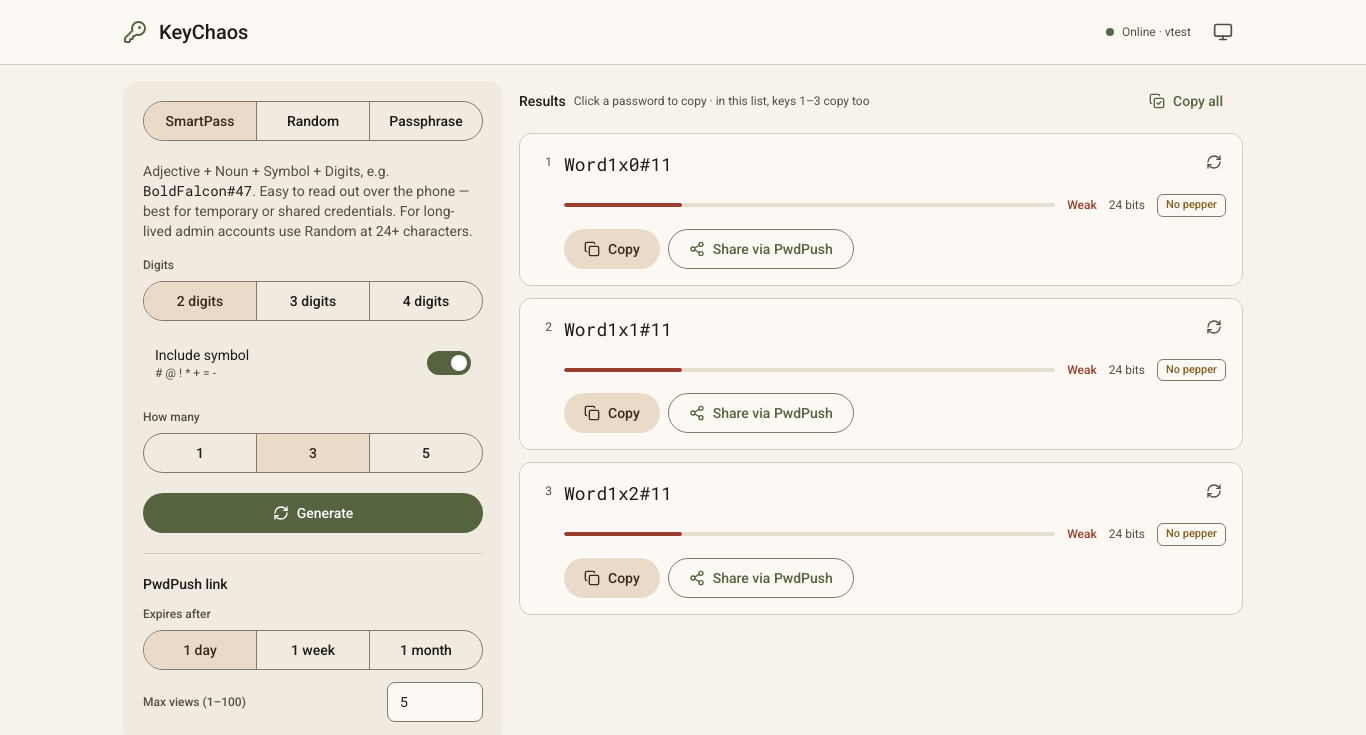
Test: App — PwdPush links are never lost or mismatched › regenerating a shared card clears its link
The width and height of the screenshot is (1366, 735).
Expected: the number of list items is 3, top-left (519, 133), bottom-right (1243, 286); top-left (519, 298), bottom-right (1243, 450); top-left (519, 462), bottom-right (1243, 614)
Click the radio button labelled "Random": click(312, 121) top-left (256, 102), bottom-right (369, 140)
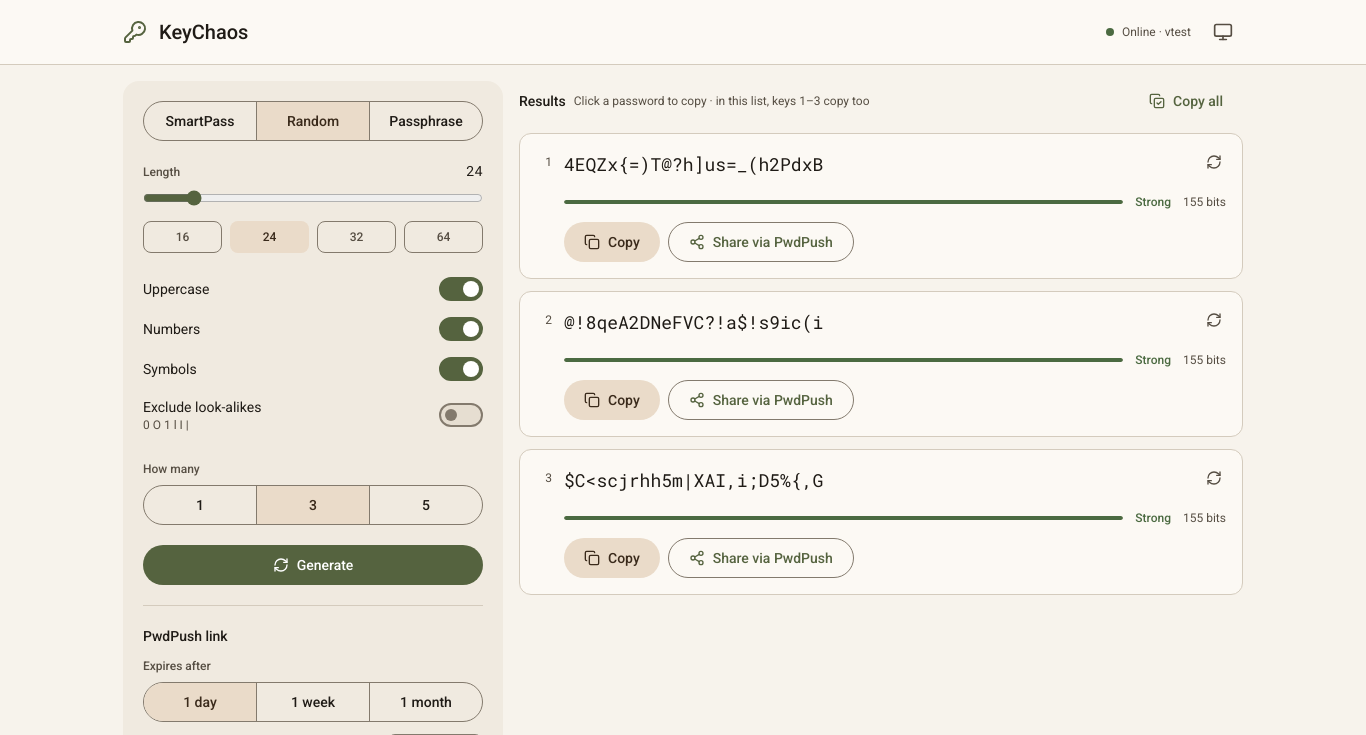
Click the button with aria-label "Share via PwdPush, password 1": click(761, 242) top-left (668, 222), bottom-right (854, 262)
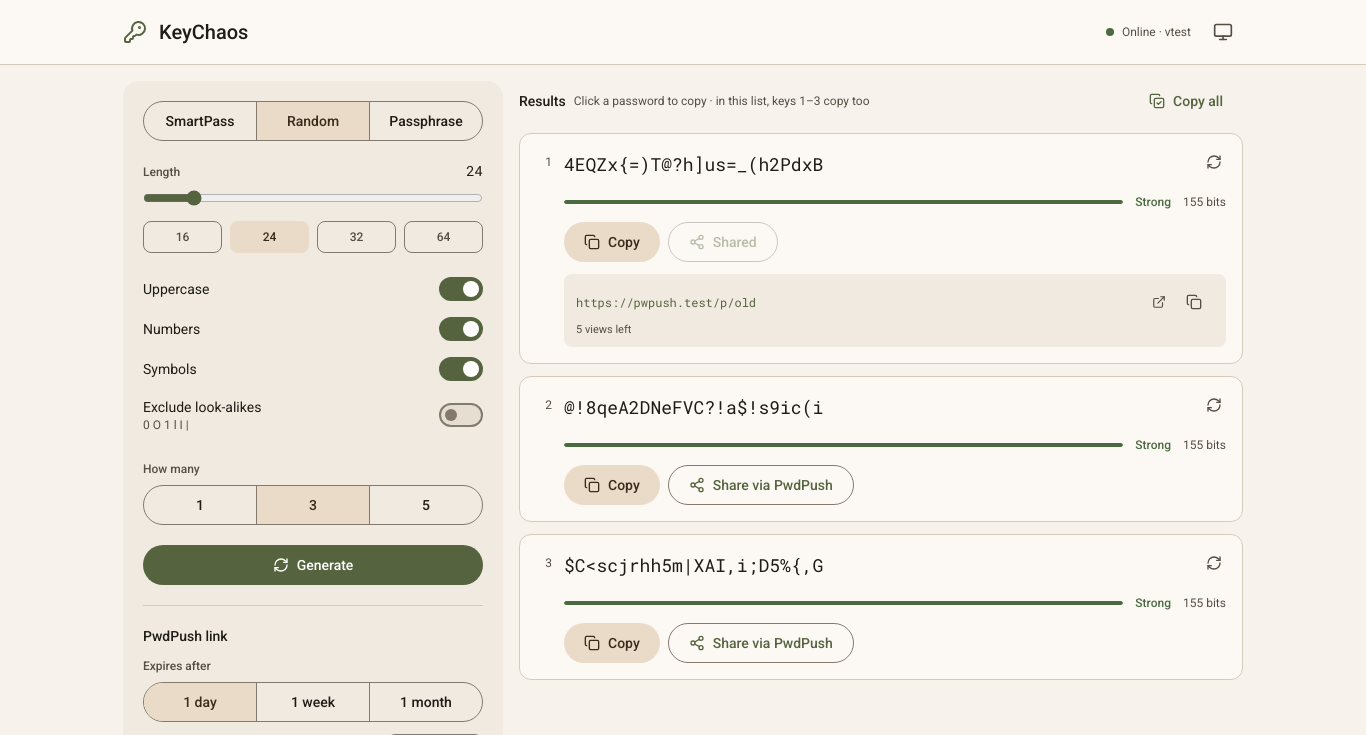
Click the button named "Regenerate password 1": click(1214, 162) top-left (1194, 142), bottom-right (1234, 182)
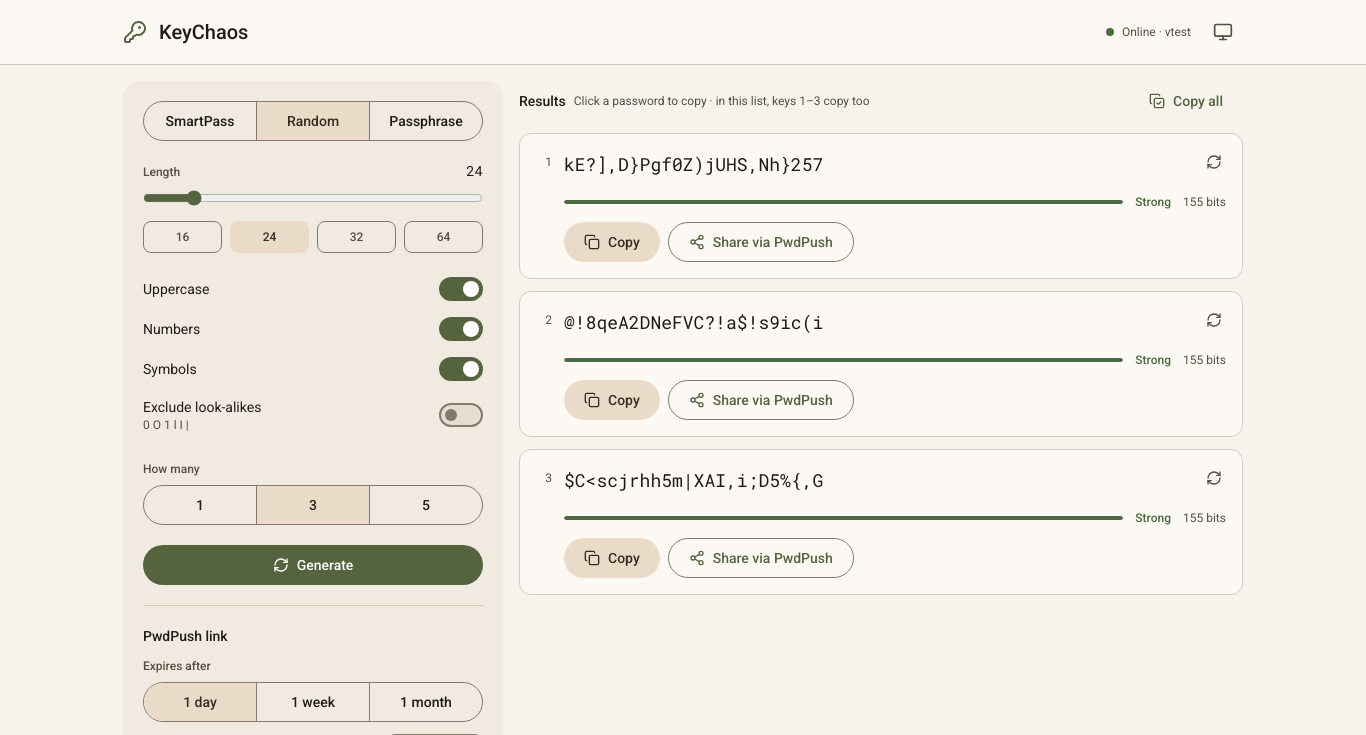
Expected: the link "https://pwpush.test/p/old" is gone
Expected: the button with aria-label "Share via PwdPush, password 1" is shown, top-left (668, 222), bottom-right (854, 262)
